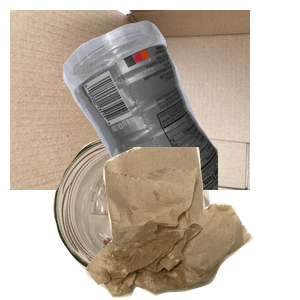cardboard: (10, 10, 250, 190)
glass: (50, 131, 252, 300)
plastic: (60, 18, 300, 198)
trash: (83, 147, 300, 300)
